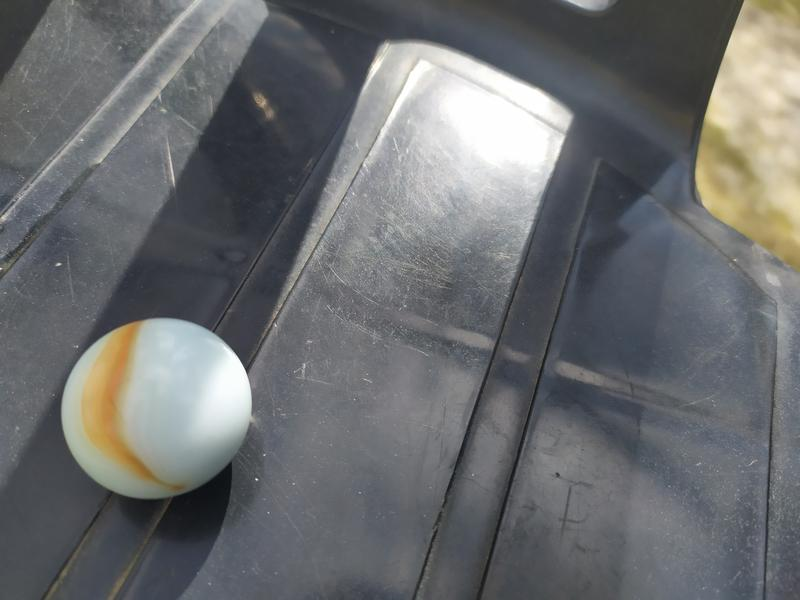Warning: (57, 313, 257, 505)
